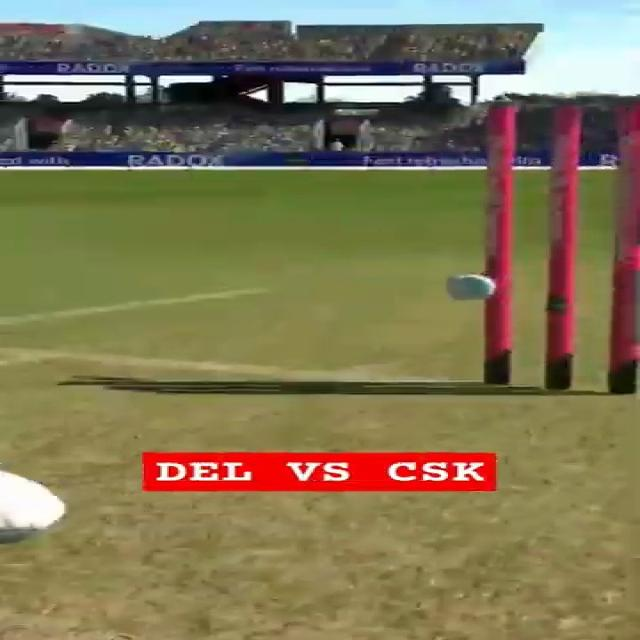ball: (444, 272, 496, 301)
